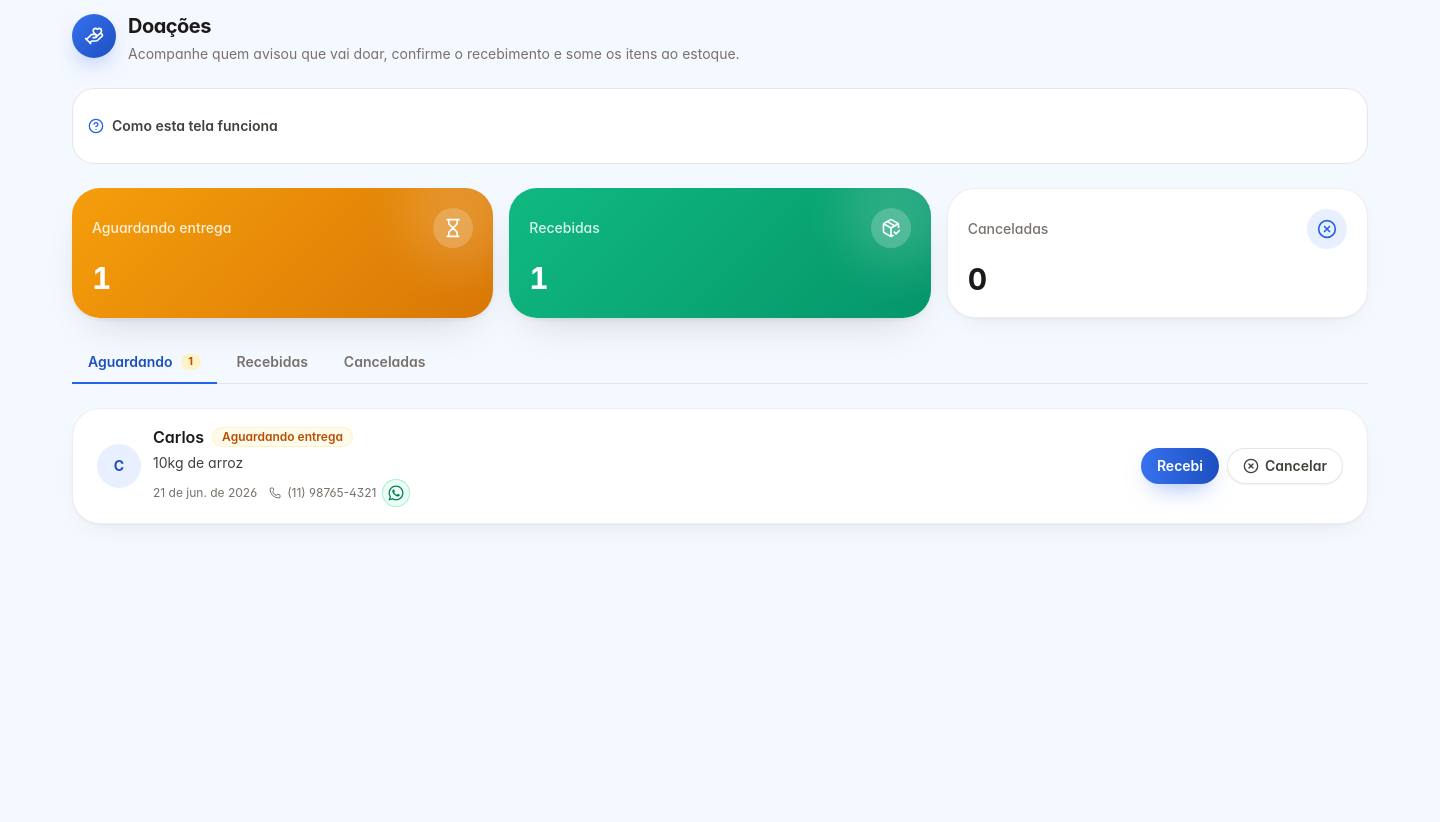
DonationsPage › mostra a mensagem certa quando a aba está vazia
This screenshot has width=1440, height=822.
Click the tab "Canceladas" at [385, 363], box [328,342,441,384]
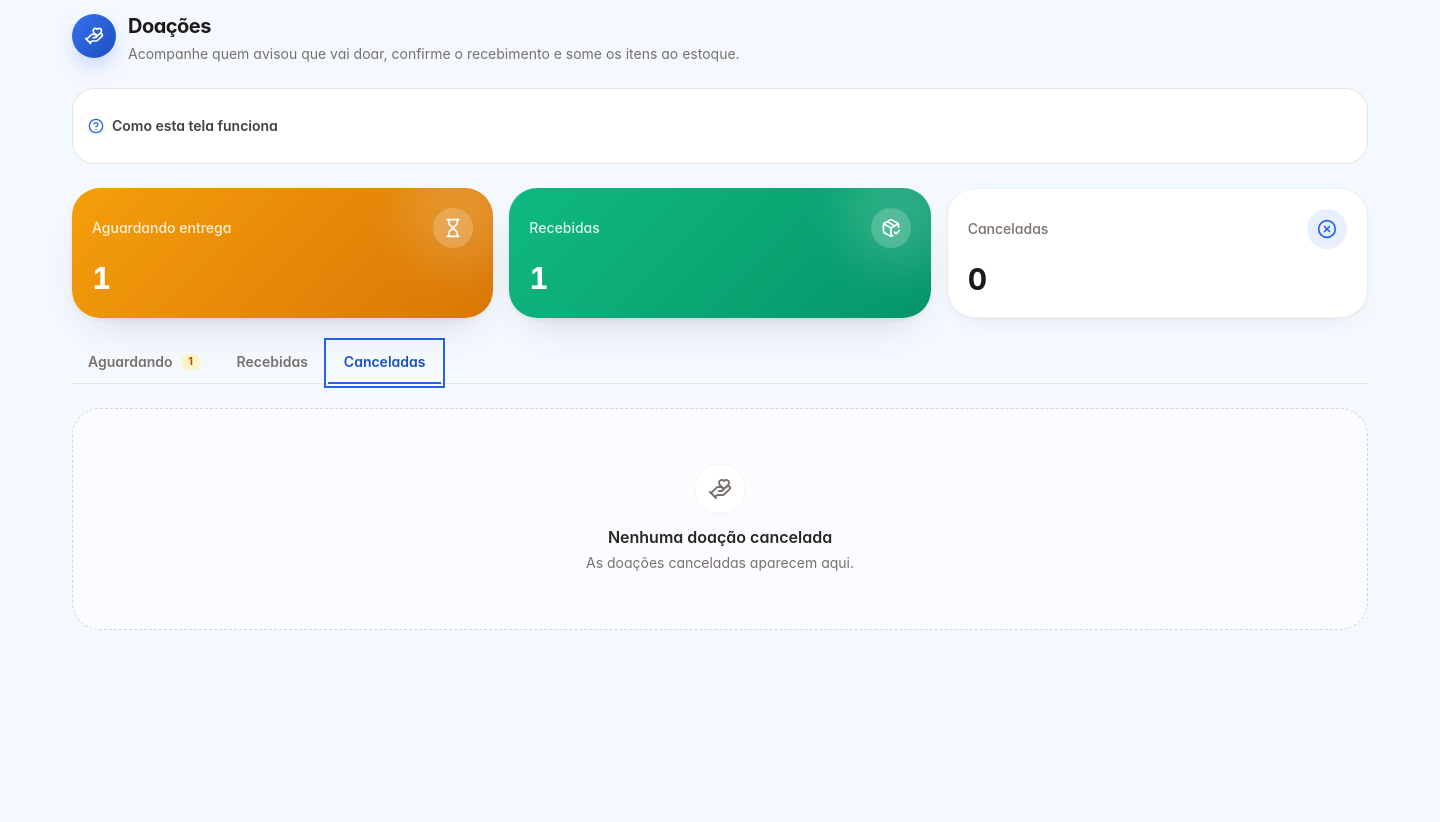
Expected: the text "Nenhuma doação cancelada" is shown, [608,527,832,547]
